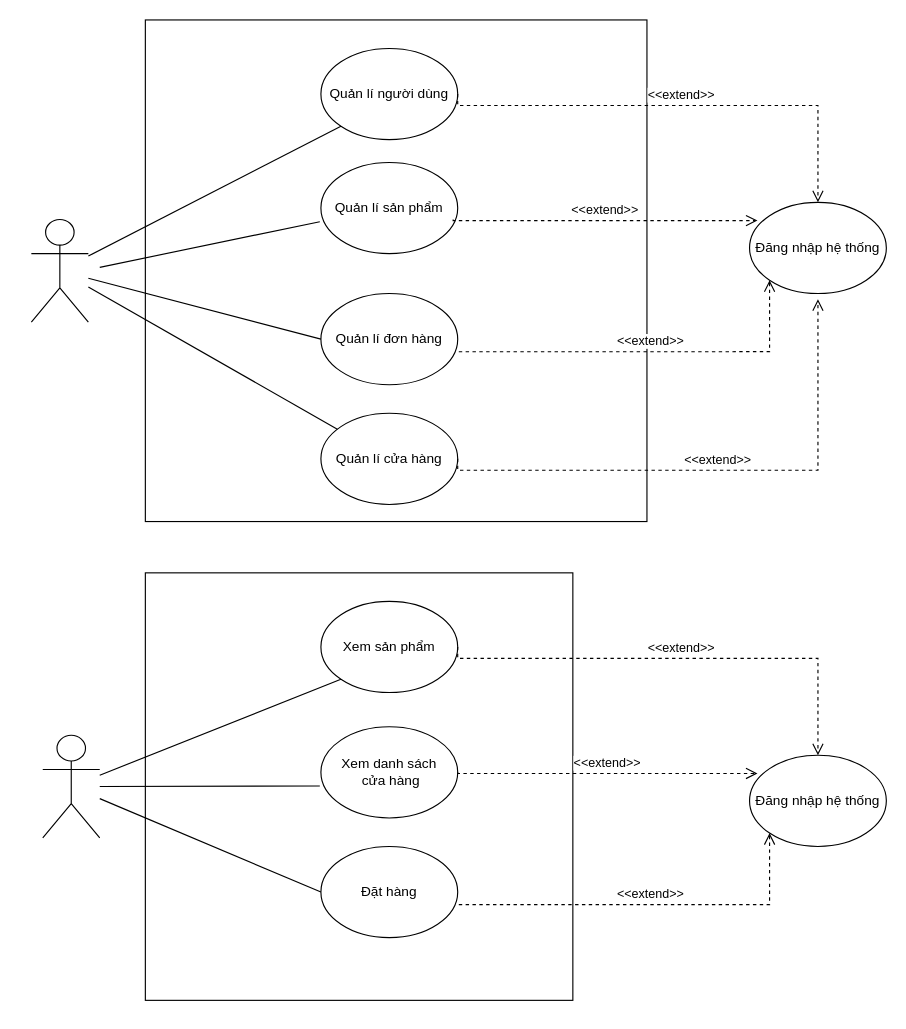
This 906x1029 diagram has some shape labels left out. Each missing label, with the centre of its shape:
Khách hàng: pixel 71 786
Quán trị viên: pixel 59 270
